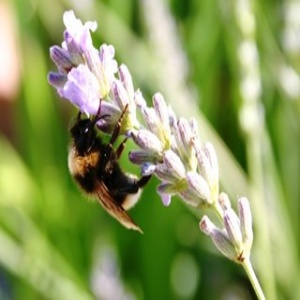bee: (66, 98, 167, 243)
